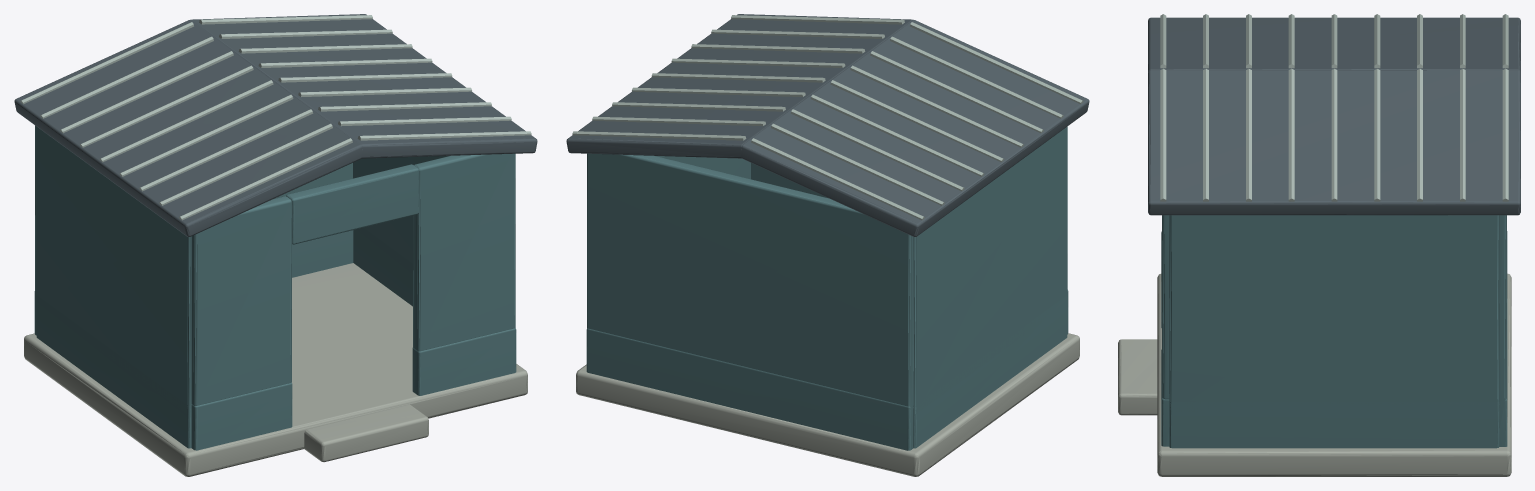
The model's file is utility_shed.glb.
3 views of the same model, side by side, from view 1: azimuth 30°, elevation 25°; view 2: azimuth 150°, elevation 25°; view 3: azimuth 270°, elevation 25° (orthographic). The views are drawn at different scales.
Parts seen in each view (by area): view 1: Keep_Mesh, Occlude_FrontWall_Mesh, Occlude_RoofL_Mesh, Occlude_SideWallL_Mesh, Occlude_RoofR_Mesh, Occlude_SideWallR_Mesh, Occlude_RearWall_Mesh; view 2: Occlude_RearWall_Mesh, Occlude_RoofL_Mesh, Keep_Mesh, Occlude_SideWallL_Mesh, Occlude_RoofR_Mesh, Occlude_SideWallR_Mesh, Occlude_FrontWall_Mesh; view 3: Occlude_SideWallR_Mesh, Occlude_RoofR_Mesh, Keep_Mesh, Occlude_RoofL_Mesh, Occlude_RearWall_Mesh, Occlude_FrontWall_Mesh.
Part boxes in pixels (x1=…): Keep_Mesh: x1=24, y1=227, x2=527, y2=476; Occlude_FrontWall_Mesh: x1=191, y1=153, x2=515, y2=405; Occlude_RoofL_Mesh: x1=14, y1=20, x2=363, y2=236; Occlude_SideWallL_Mesh: x1=36, y1=127, x2=191, y2=414; Occlude_RoofR_Mesh: x1=190, y1=14, x2=537, y2=158; Occlude_SideWallR_Mesh: x1=353, y1=155, x2=450, y2=263; Occlude_RearWall_Mesh: x1=35, y1=125, x2=352, y2=301; Occlude_RearWall_Mesh: x1=587, y1=153, x2=913, y2=414; Occlude_RoofL_Mesh: x1=740, y1=20, x2=1089, y2=236; Keep_Mesh: x1=576, y1=290, x2=1079, y2=476; Occlude_SideWallL_Mesh: x1=913, y1=127, x2=1067, y2=414; Occlude_RoofR_Mesh: x1=566, y1=14, x2=913, y2=158; Occlude_SideWallR_Mesh: x1=656, y1=156, x2=750, y2=179; Occlude_FrontWall_Mesh: x1=751, y1=126, x2=1067, y2=289; Occlude_SideWallR_Mesh: x1=1169, y1=215, x2=1499, y2=411; Occlude_RoofR_Mesh: x1=1148, y1=68, x2=1520, y2=215; Keep_Mesh: x1=1118, y1=231, x2=1511, y2=476; Occlude_RoofL_Mesh: x1=1148, y1=14, x2=1520, y2=72; Occlude_RearWall_Mesh: x1=1499, y1=215, x2=1506, y2=401; Occlude_FrontWall_Mesh: x1=1162, y1=215, x2=1169, y2=399.
Size of the model in its own units: 3.59 by 2.91 by 3.3.
